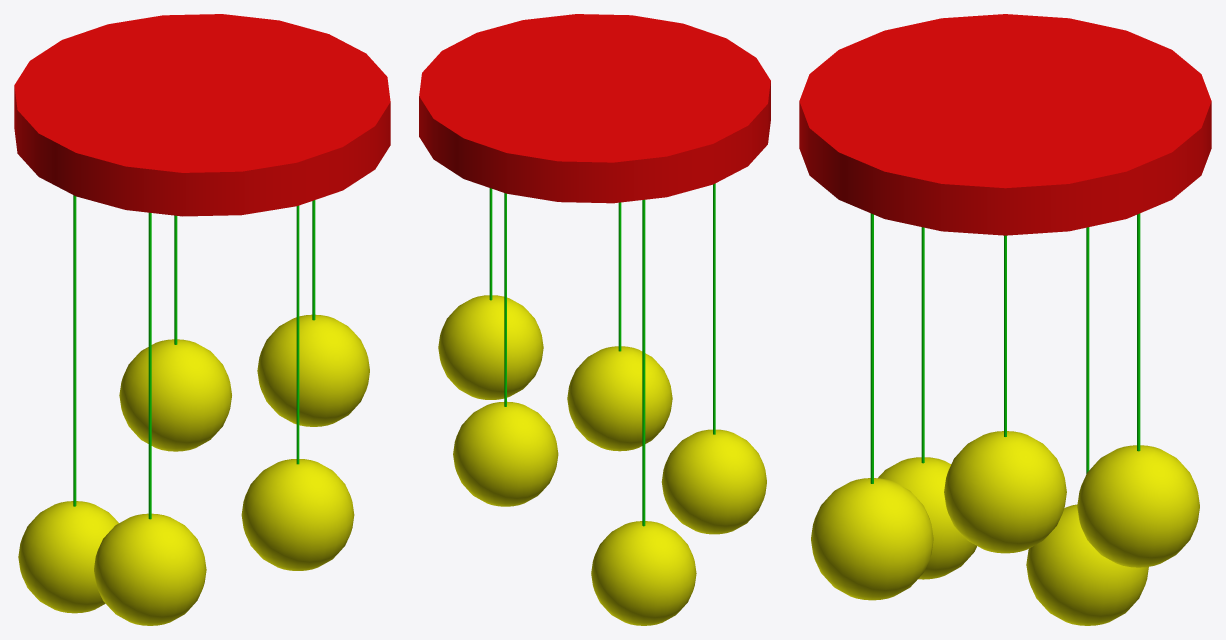
Rendered from ai2_lamp_2a.fbx.
3 views of the same model, side by side, from view 1: azimuth 30°, elevation 25°; view 2: azimuth 150°, elevation 25°; view 3: azimuth 270°, elevation 25° (orthographic). The views are drawn at different scales.
Parts seen in each view (by area): view 1: ai2_lamp_2a; view 2: ai2_lamp_2a; view 3: ai2_lamp_2a.
Boxes of the visible parts, x1,y1,x2,y2 form: ai2_lamp_2a: (14,14,390,625); ai2_lamp_2a: (419,14,770,625); ai2_lamp_2a: (799,14,1211,625).
Size of the model in its own units: 56.74 by 86.14 by 56.74.
